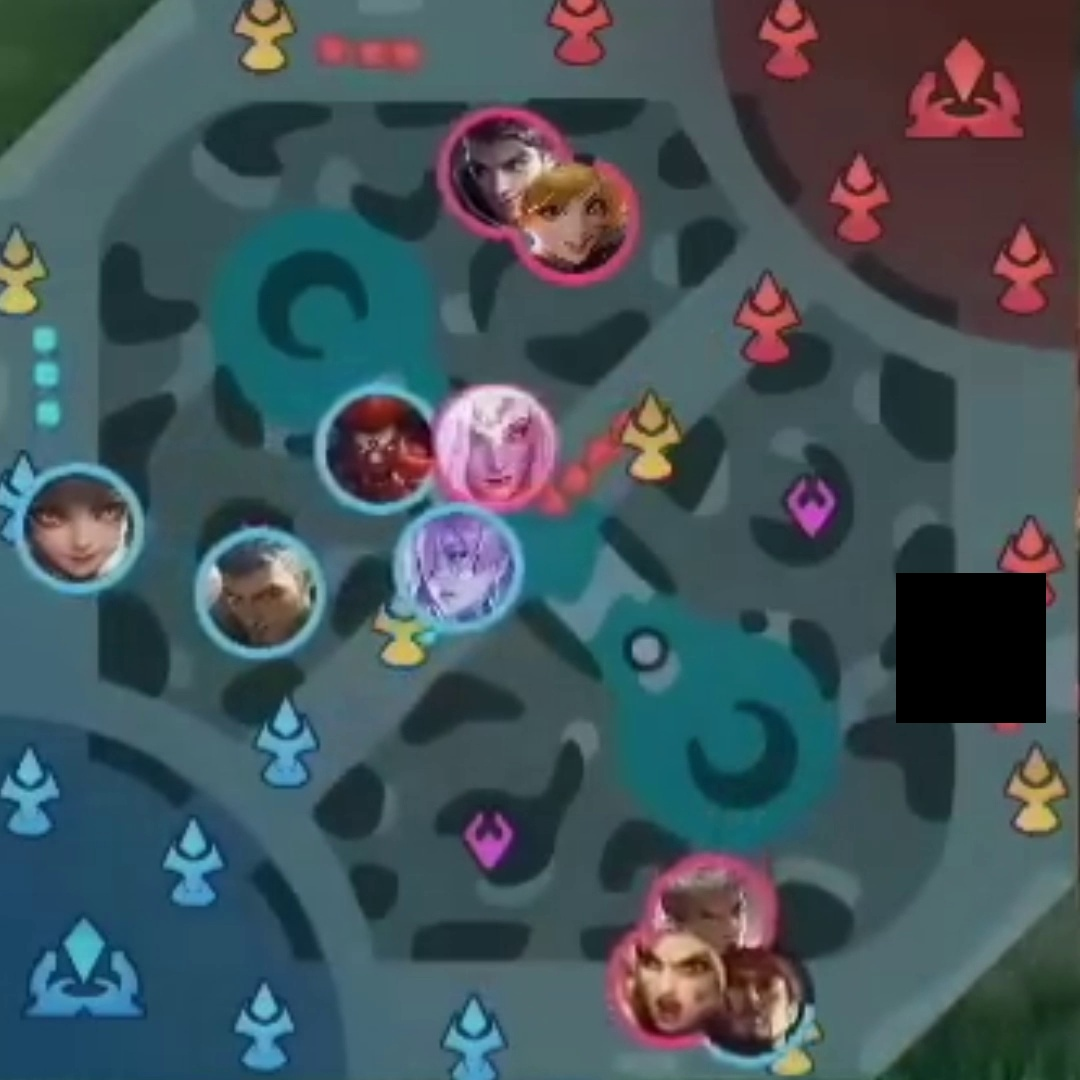Chou: (665, 860, 769, 945)
Claude: (444, 111, 548, 221)
Fanny: (529, 163, 627, 272)
Fredrinn: (205, 541, 315, 654)
Lapu-Lapu: (726, 958, 804, 1050)
Masha: (625, 945, 719, 1036)
Minotaur: (328, 394, 446, 516)
Novaria: (411, 518, 516, 627)
Valentina: (441, 392, 552, 494)
Wanwan: (22, 473, 137, 591)
